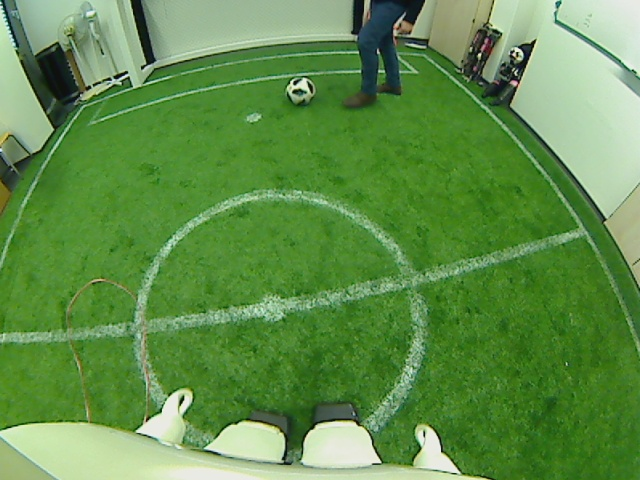ball: (283, 75, 317, 106)
